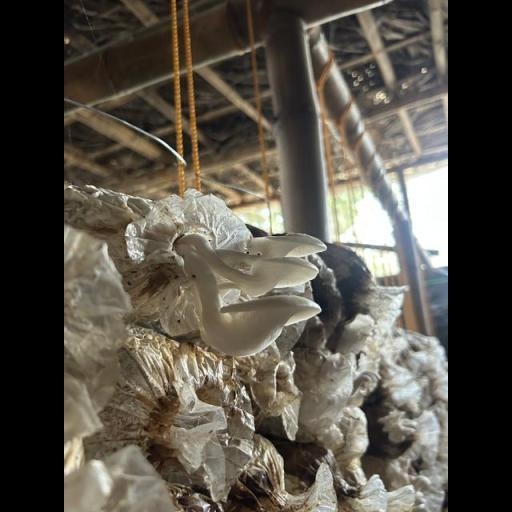White Oyster Mushroom: (168, 198, 333, 372)
